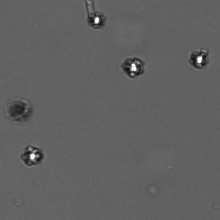Dead Cell: (7, 98, 32, 123)
Living Cell: (19, 145, 44, 168), (121, 56, 147, 78), (189, 48, 209, 69), (86, 12, 106, 30)
